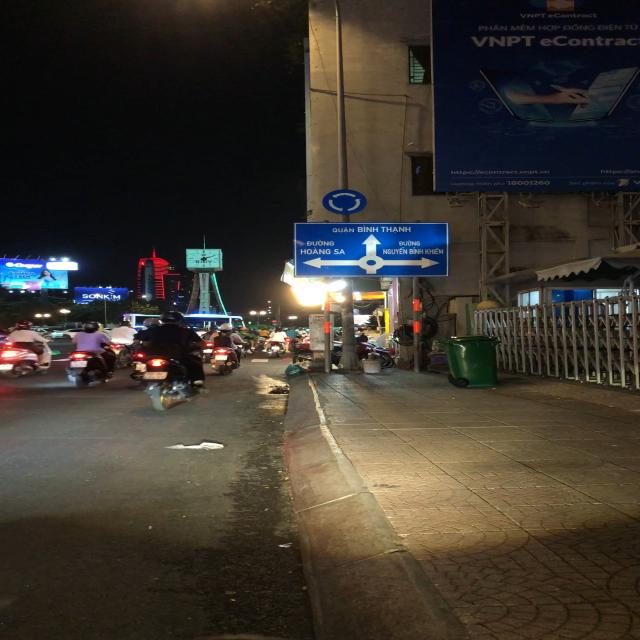Bien bao noi giao nhau chay theo vong xuyen: (322, 187, 368, 216)
